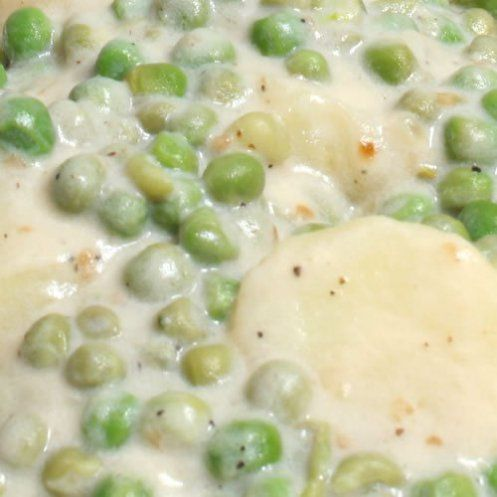boiled peas: (5, 1, 490, 497)
